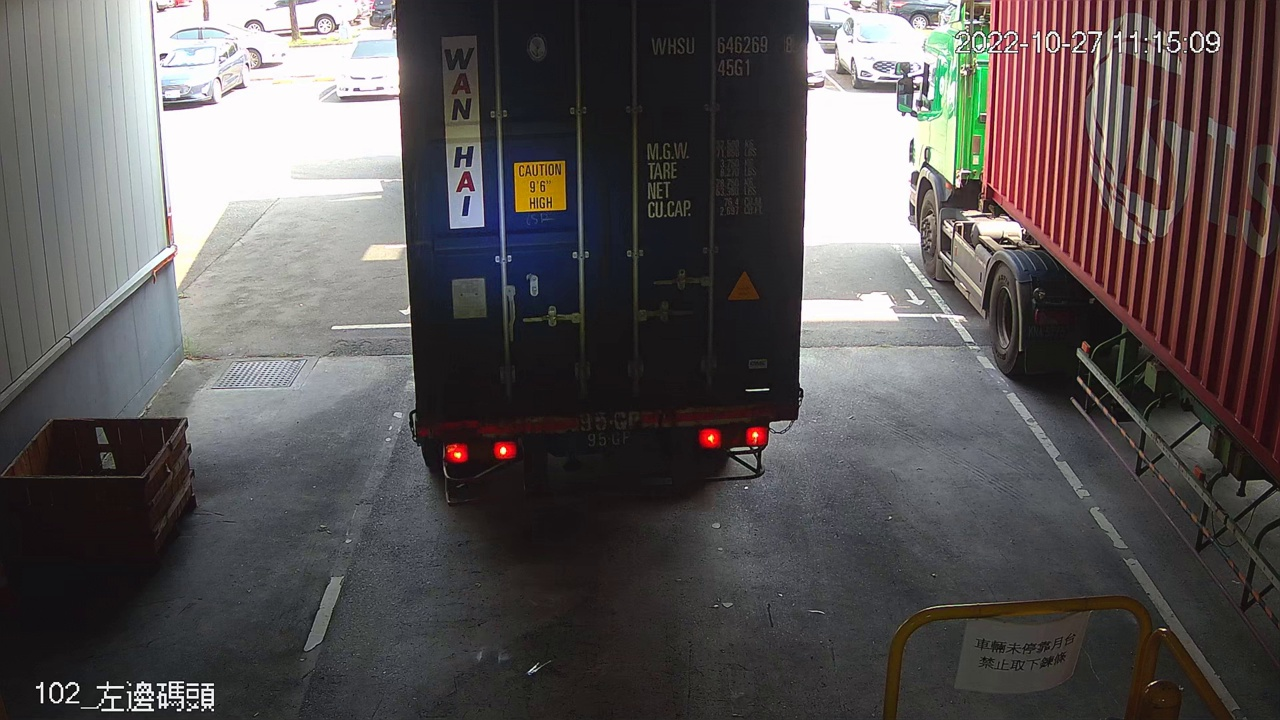container: (645, 27, 800, 83)
